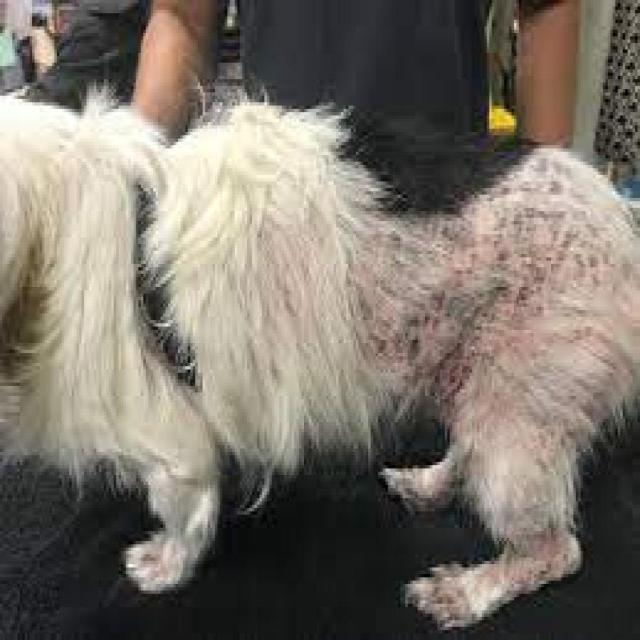allergic dermatitis: (305, 205, 603, 403)
